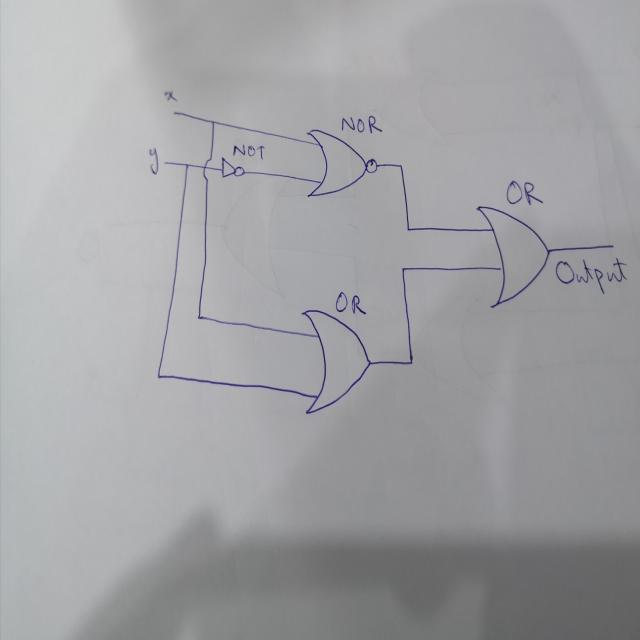crossover: (202, 155, 212, 183)
junction: (404, 349, 417, 372), (395, 157, 406, 173), (182, 158, 192, 170), (404, 223, 412, 235), (209, 115, 216, 127), (399, 263, 406, 275), (156, 369, 162, 382), (195, 311, 202, 322)
terminal: (608, 240, 617, 252), (171, 108, 177, 116), (162, 158, 168, 166)
text: (554, 251, 628, 296), (502, 178, 544, 212), (340, 111, 382, 137), (333, 290, 367, 316), (231, 138, 267, 162), (147, 145, 159, 176), (163, 89, 177, 102)
